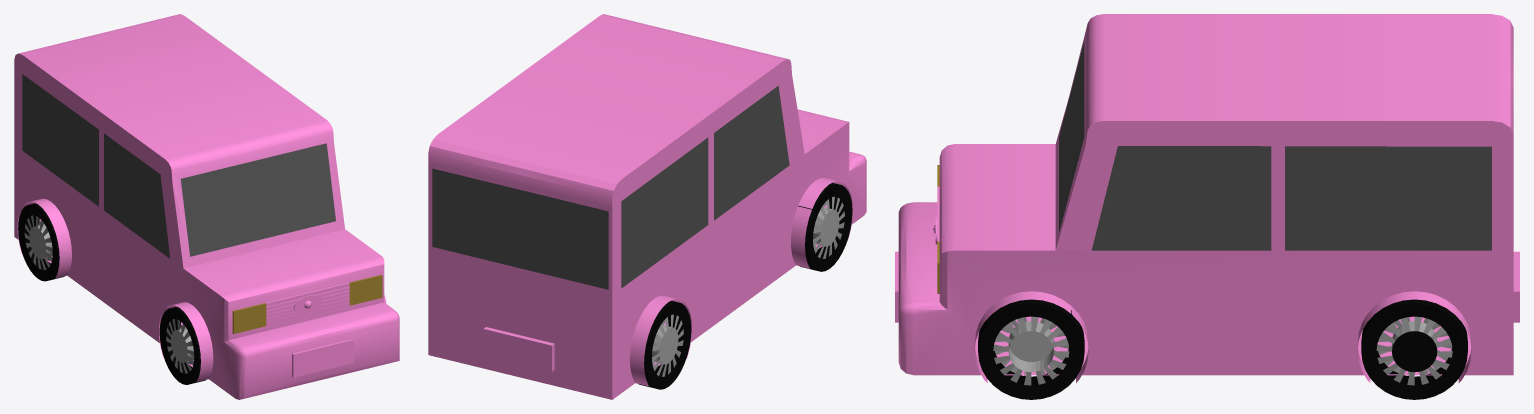
The model's file is NPCcar1_pink.fbx.
3 renders of one model, left to right at view 1: azimuth 30°, elevation 25°; view 2: azimuth 150°, elevation 25°; view 3: azimuth 270°, elevation 25°, orthographic. The views are drawn at different scales.
Visible parts, largest first — view 1: car01_pink; view 2: car01_pink; view 3: car01_pink.
Part boxes in pixels (x1=…): car01_pink: x1=14, y1=14, x2=399, y2=399; car01_pink: x1=428, y1=14, x2=866, y2=399; car01_pink: x1=895, y1=14, x2=1519, y2=399.
Bounding box in the file's own units: 54.09 × 54.89 × 115.
